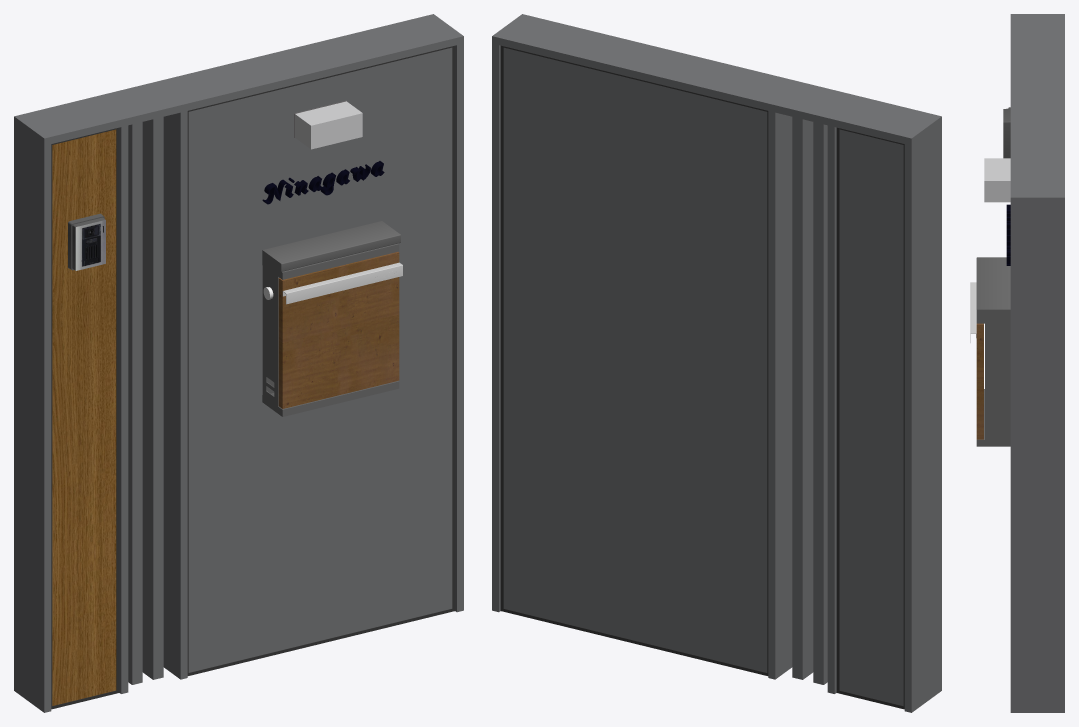
File: ab46_cherryoak.fbx
The picture shows the model from 3 angles, left to right: view 1: azimuth 30°, elevation 25°; view 2: azimuth 150°, elevation 25°; view 3: azimuth 270°, elevation 25°; orthographic projection. The views are drawn at different scales.
Visible parts, largest first — view 1: ab46-cherryoak2; view 2: ab46-cherryoak2; view 3: ab46-cherryoak2.
Boxes of the visible parts, left/top/right/bottom form: ab46-cherryoak2: left=14, top=14, right=463, bottom=712; ab46-cherryoak2: left=492, top=14, right=941, bottom=712; ab46-cherryoak2: left=970, top=14, right=1064, bottom=712.
Size of the model in its own units: 120 by 157 by 26.16.
17 materials, 6 textured.
